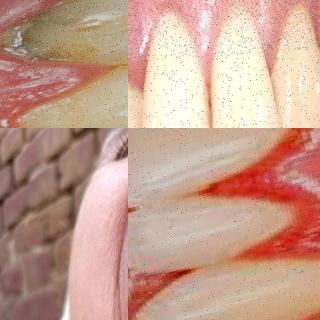Gum Swelling: (237, 128, 320, 320), (0, 0, 96, 128), (173, 0, 231, 85), (244, 0, 293, 68), (127, 0, 154, 96)
maligned: (128, 56, 150, 128)
plaque: (0, 6, 128, 70), (6, 77, 120, 128)
